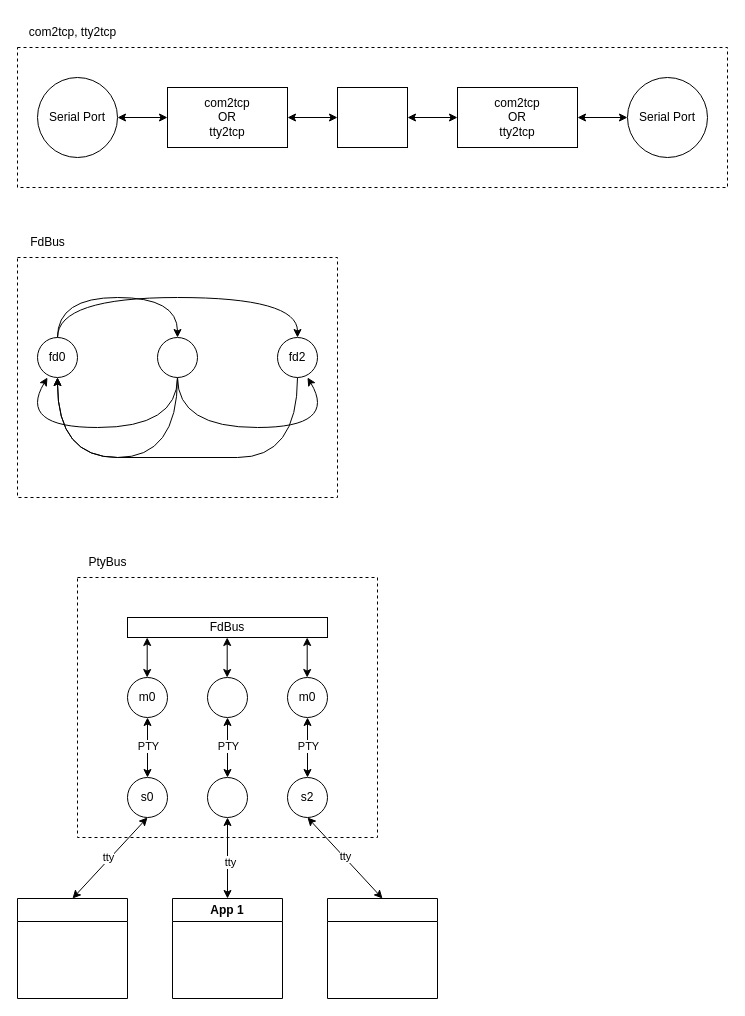
This 745x1016 diagram has some shape labels left out. The centre of each missing label's shape, as x and y in pixels:
App 0: (72,948)
App 2: (382,948)
fd1: (177,357)
m1: (227,697)
s1: (227,797)
TCP Socket: (372,117)
